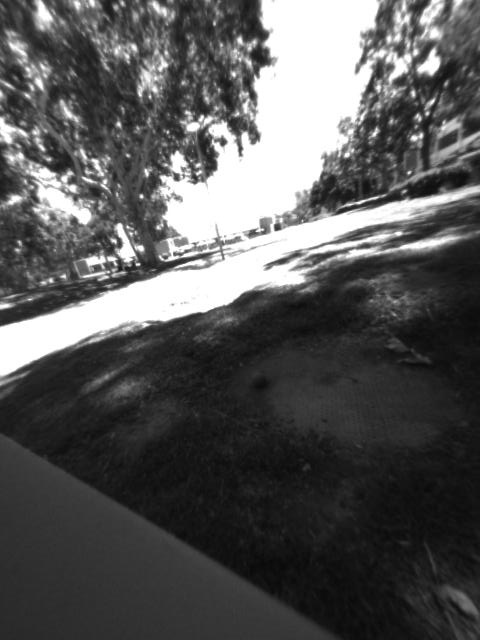dogtoy: (243, 363, 285, 395)
